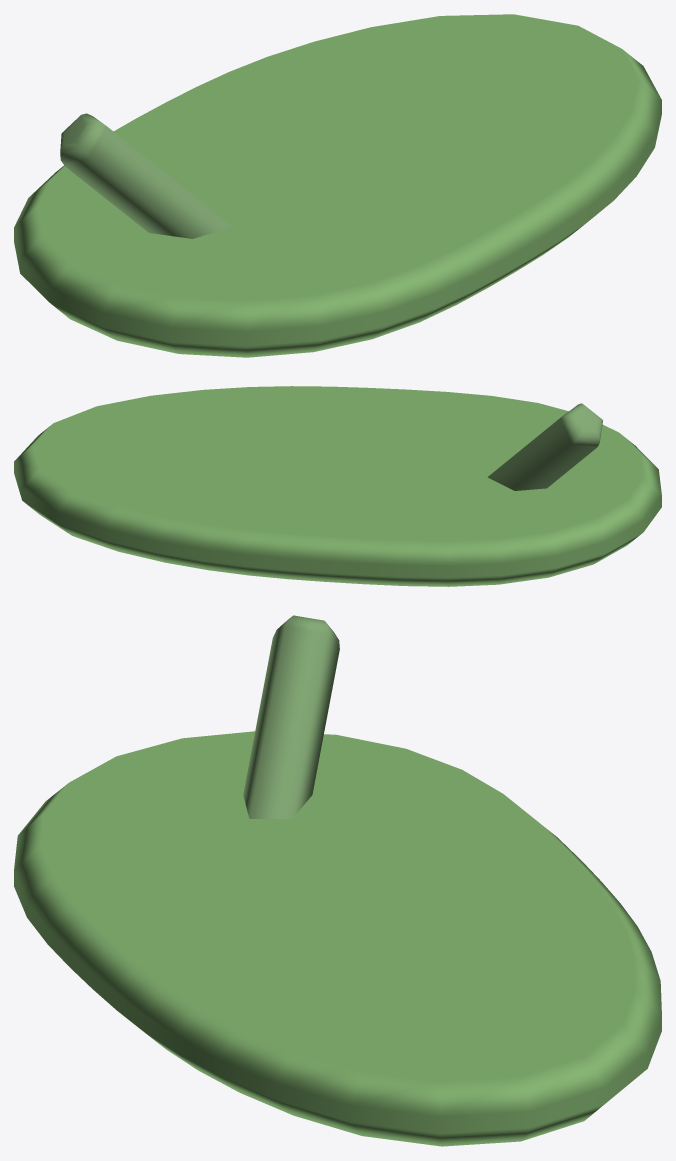
File: leaf.glb
The picture shows the model from 3 angles, top to bottom: view 1: azimuth 30°, elevation 25°; view 2: azimuth 150°, elevation 25°; view 3: azimuth 270°, elevation 25°; orthographic projection. The views are drawn at different scales.
Visible parts, largest first — view 1: leaf_Head; view 2: leaf_Head; view 3: leaf_Head.
Part boxes in pixels (x1,y1,x2,y2): leaf_Head: (14,14,661,357); leaf_Head: (14,386,661,586); leaf_Head: (14,615,661,1146).
Bounding box in the file's own units: 0.1974 × 0.0495 × 0.1447.
